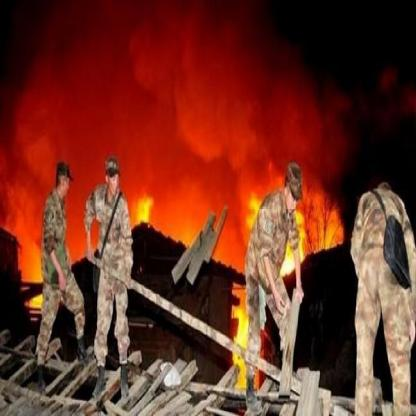fire: (132, 176, 260, 264), (288, 194, 353, 264), (225, 258, 254, 370), (12, 222, 44, 312)
